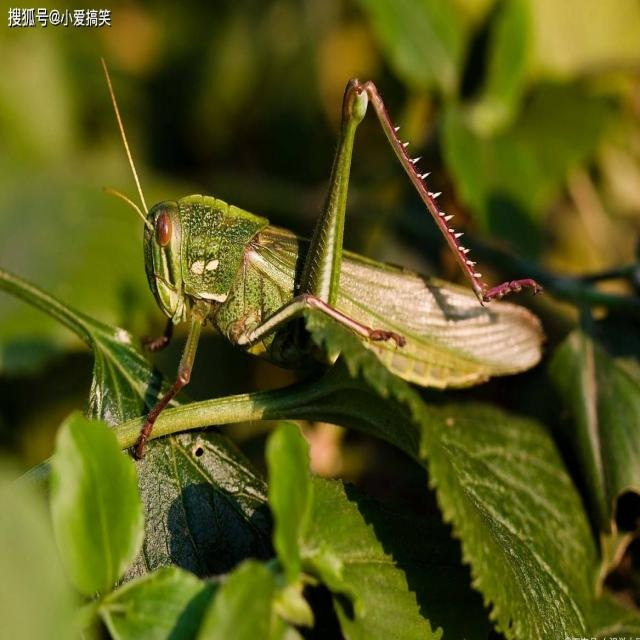ZhaMeng: (83, 48, 550, 450)
